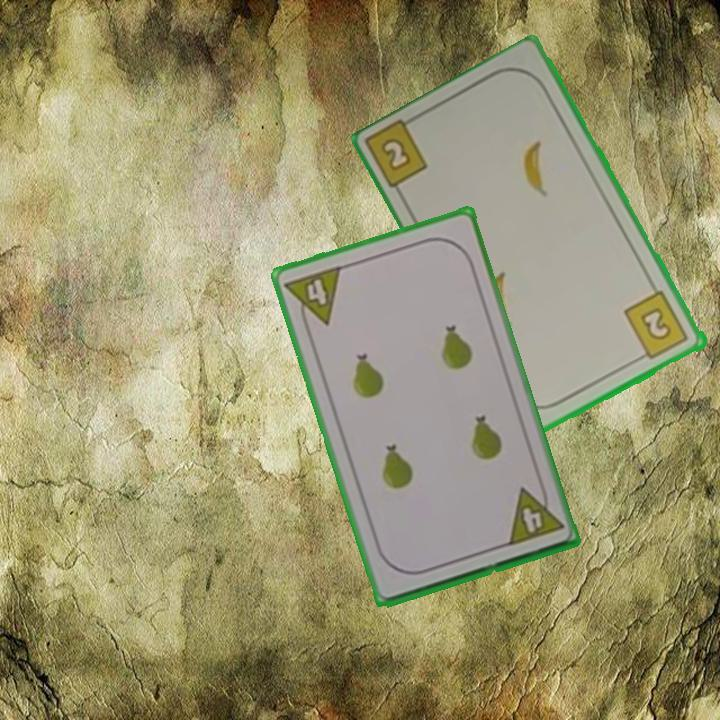2b: (621, 287, 692, 364), (377, 134, 415, 175)
4p: (281, 262, 344, 334), (503, 479, 566, 549)
